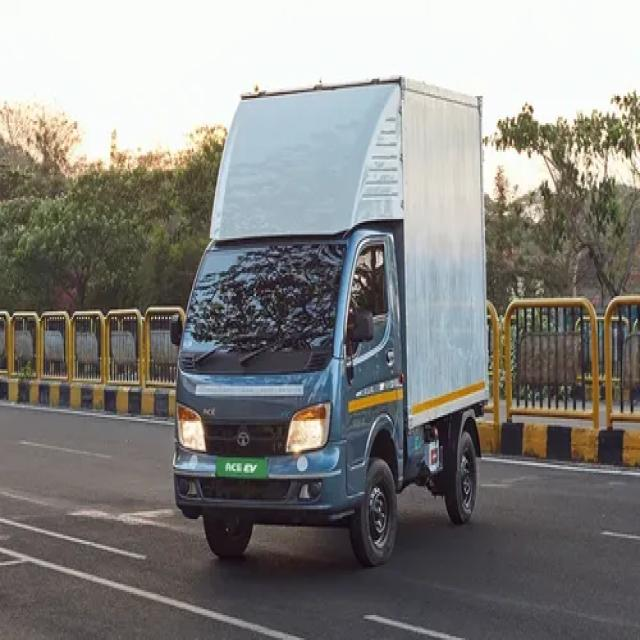Vehicles: (169, 53, 516, 606)
